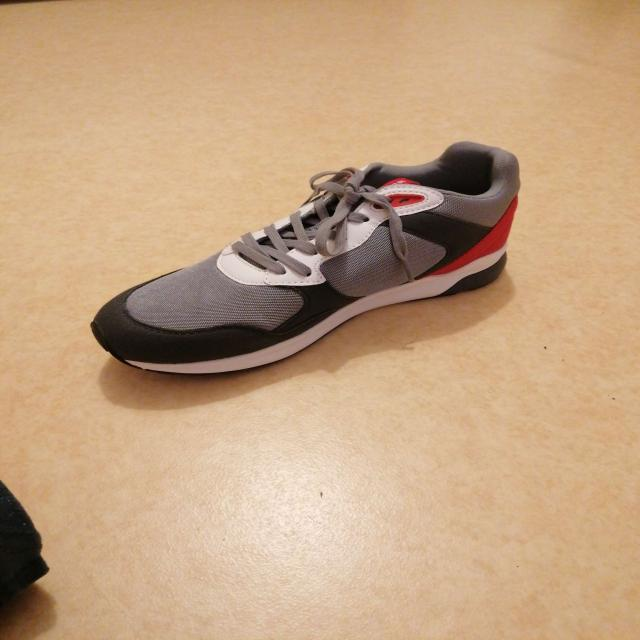shoe: (89, 140, 521, 379)
